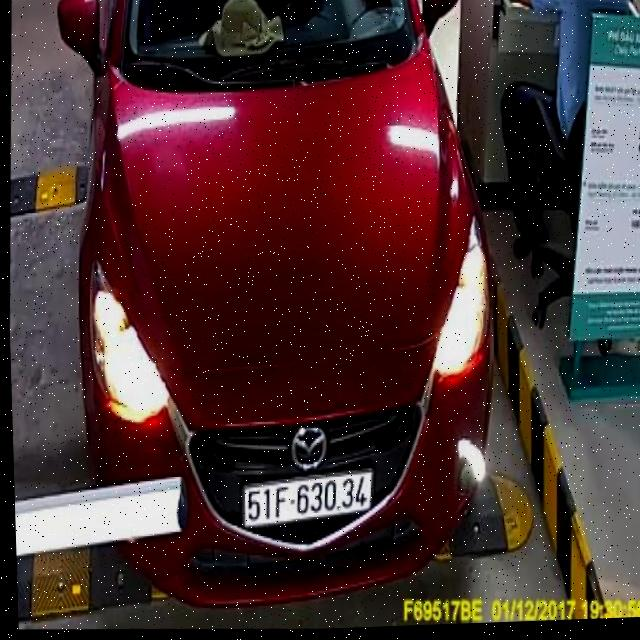car: (25, 0, 517, 621)
plate: (240, 465, 374, 536)
